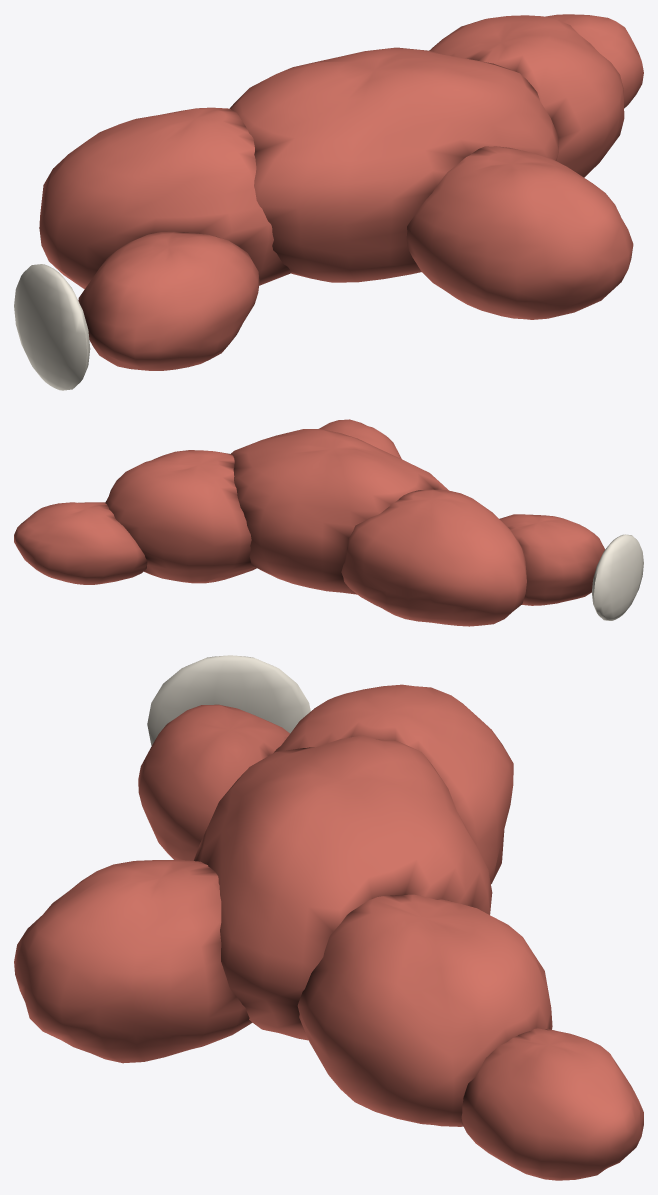
The model's file is food_ginger.glb.
The picture shows the model from 3 angles, top to bottom: view 1: azimuth 30°, elevation 25°; view 2: azimuth 150°, elevation 25°; view 3: azimuth 270°, elevation 25°; orthographic projection. The views are drawn at different scales.
Parts seen in each view (by area): view 1: PART; view 2: PART; view 3: PART.
Boxes of the visible parts, x1,y1,x2,y2 form: PART: (14, 14, 643, 390); PART: (14, 419, 643, 626); PART: (14, 655, 643, 1180).
Bounding box in the file's own units: 0.1469 × 0.0383 × 0.0911.
